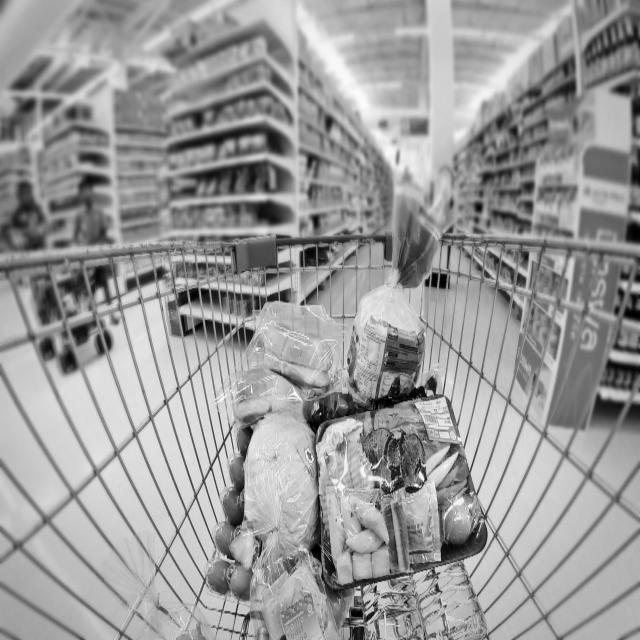banh mi: (351, 196, 447, 400), (252, 549, 340, 640)
bap cai: (243, 414, 321, 554)
trung: (209, 427, 256, 598)
